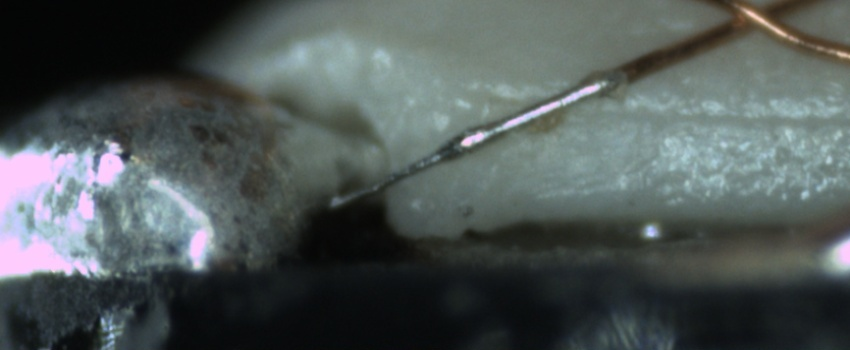CL: (704, 1, 811, 42)
DL: (511, 86, 849, 150)
TS: (330, 72, 618, 210)
TTCW: (327, 50, 665, 212)
